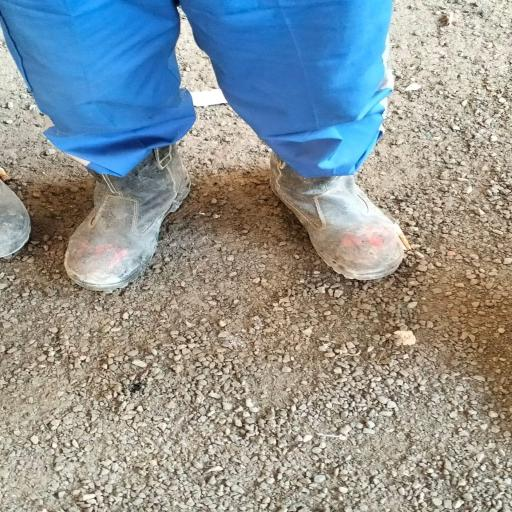safety_shoe: (60, 138, 198, 284), (267, 147, 409, 283)
